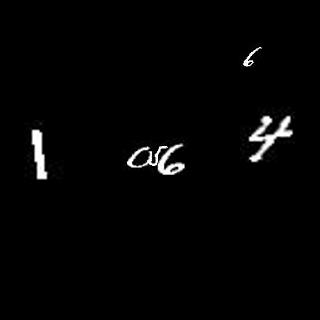five: (151, 140, 168, 167)
four: (247, 112, 289, 167)
one: (28, 127, 50, 182)
six: (158, 143, 194, 174), (241, 44, 264, 68)
zero: (126, 141, 154, 170)
